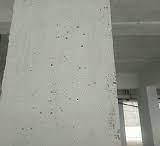Spalling: (39, 22, 87, 120), (103, 71, 121, 143), (96, 1, 111, 40), (14, 127, 34, 137)
